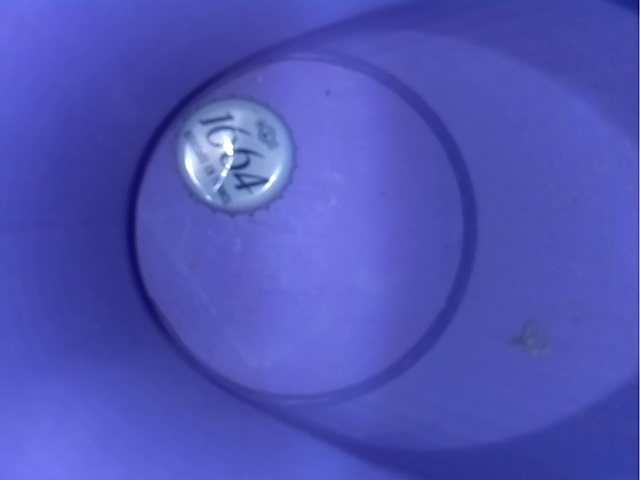capsule: (162, 94, 311, 221)
